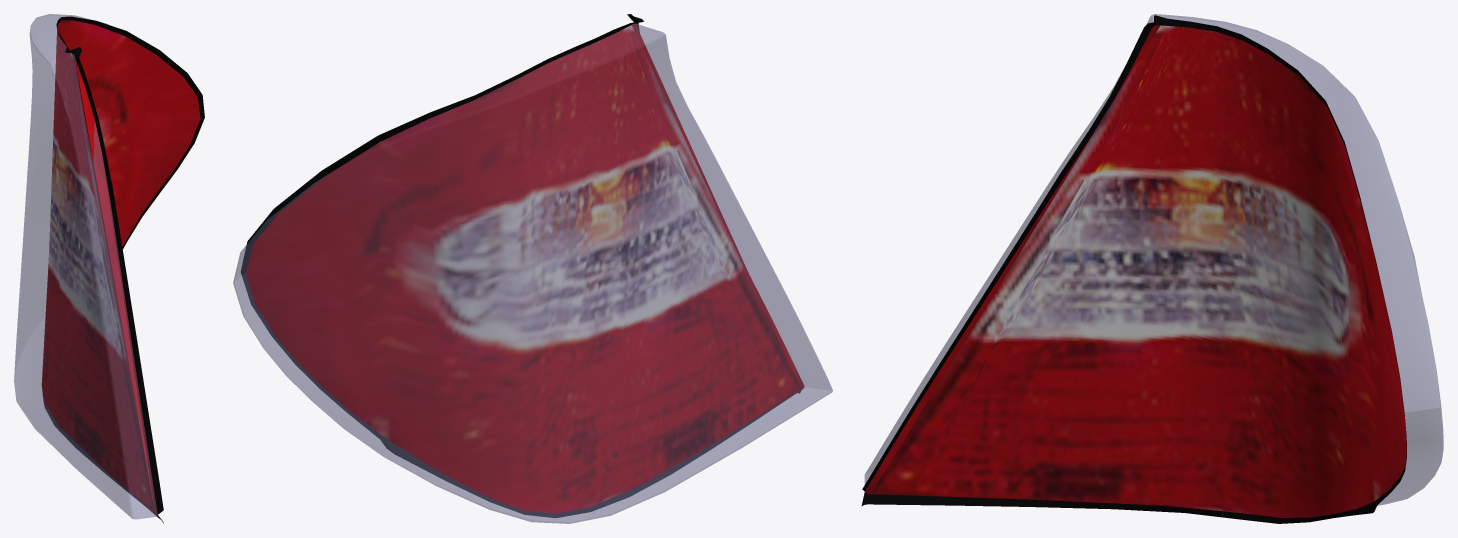
3 views of the same model, side by side, from view 1: azimuth 30°, elevation 25°; view 2: azimuth 150°, elevation 25°; view 3: azimuth 270°, elevation 25° (orthographic). The views are drawn at different scales.
Parts seen in each view (by area): view 1: Y174_541C_L_Y174_541C_L_1_N, Y174_541C_L_Y174_541C_L_2_DTaSI, Y174_541C_L_3_D_Y174_541C_L; view 2: Y174_541C_L_Y174_541C_L_2_DTaSI, Y174_541C_L_Y174_541C_L_1_N, Y174_541C_L_3_D_Y174_541C_L; view 3: Y174_541C_L_Y174_541C_L_1_N, Y174_541C_L_Y174_541C_L_2_DTaSI, Y174_541C_L_3_D_Y174_541C_L.
Boxes of the visible parts, x1,y1,x2,y2 form: Y174_541C_L_Y174_541C_L_1_N: [41, 20, 200, 516]; Y174_541C_L_Y174_541C_L_2_DTaSI: [14, 14, 157, 519]; Y174_541C_L_3_D_Y174_541C_L: [44, 16, 204, 523]; Y174_541C_L_Y174_541C_L_2_DTaSI: [233, 23, 832, 523]; Y174_541C_L_Y174_541C_L_1_N: [246, 23, 804, 513]; Y174_541C_L_3_D_Y174_541C_L: [241, 14, 801, 517]; Y174_541C_L_Y174_541C_L_1_N: [865, 25, 1406, 517]; Y174_541C_L_Y174_541C_L_2_DTaSI: [864, 14, 1443, 505]; Y174_541C_L_3_D_Y174_541C_L: [861, 15, 1406, 523].
Size of the model in its own units: 29.15 by 38.54 by 40.41.
